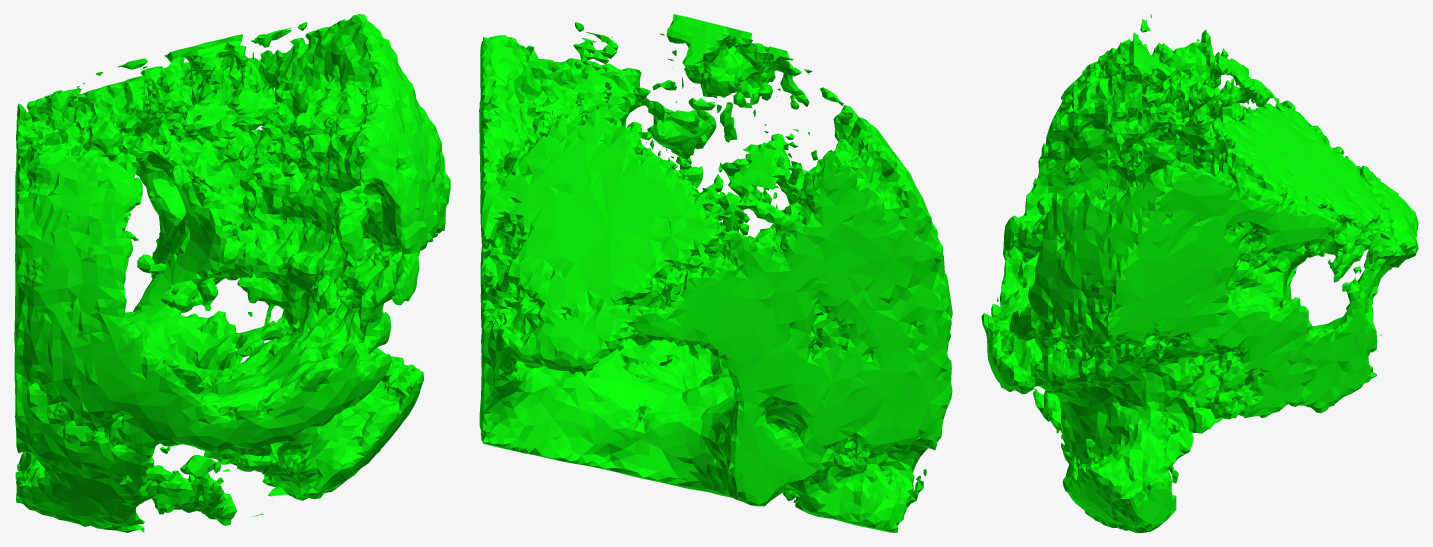
The model's file is B939XXXX-1_base_28.obj.
The picture shows the model from 3 angles, left to right: view 1: azimuth 30°, elevation 25°; view 2: azimuth 150°, elevation 25°; view 3: azimuth 270°, elevation 25°; orthographic projection. The views are drawn at different scales.
Parts seen in each view (by area): view 1: 28_base; view 2: 28_base; view 3: 28_base.
Boxes of the visible parts, x1,y1,x2,y2 form: 28_base: (14, 14, 450, 532); 28_base: (479, 14, 952, 532); 28_base: (981, 14, 1418, 532).
Bounding box in the file's own units: 218 × 218 × 205.
